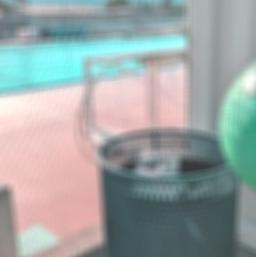algae: (216, 38, 256, 200)
